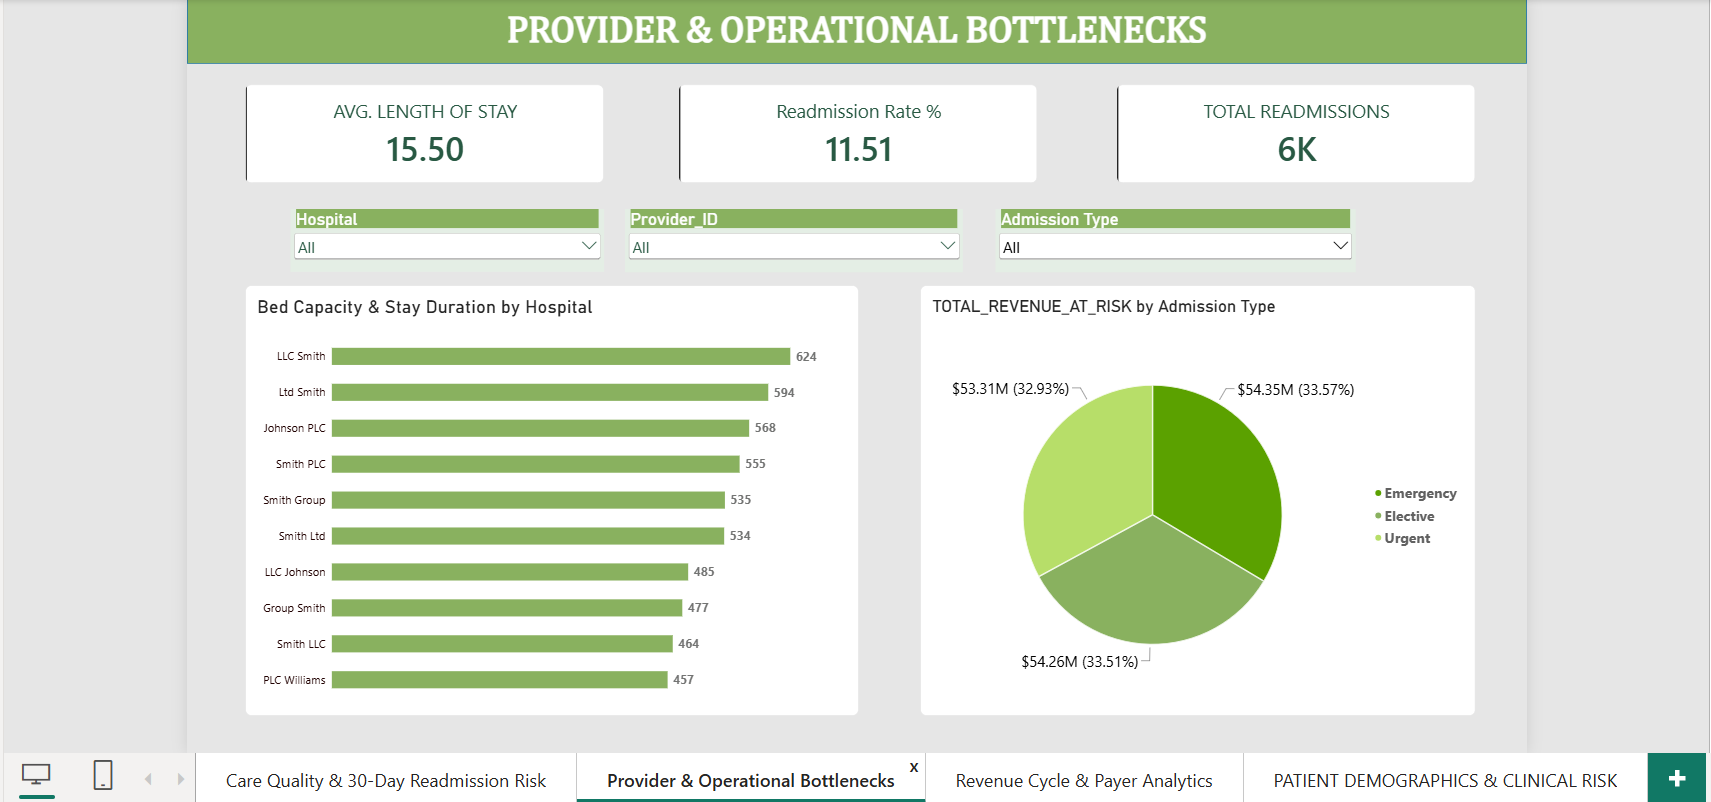

The page's visual inventory and layout, read from the dashboard file:
{"tool":"powerbi","page":{"name":"Provider & Operational Bottlenecks","canvas":[1920,1080],"ordinal":1},"visuals":[{"type":"shape","box":[0,0,1919.2,92.9],"z":0},{"type":"cardVisual","fields":{"Data":["Avg(VW_PILLAR2_OPERATIONS.AVG_LENGTH_OF_STAY_DAYS)"]},"box":[83.1,122.2,513.4,141.8],"z":1000},{"type":"cardVisual","fields":{"Data":["VW_PILLAR2_OPERATIONS.Overall Readmission Rate %"]},"box":[704.1,122.2,513.4,141.8],"z":2000},{"type":"cardVisual","fields":{"Data":["Sum(VW_PILLAR2_OPERATIONS.TOTAL_READMISSIONS)"]},"box":[1332.4,122.2,513.4,141.8],"z":3000},{"type":"clusteredBarChart","title":"Bed Capacity & Stay Duration by Hospital","fields":{"Category":["VW_PILLAR2_OPERATIONS.Hospital"],"Y":["Sum(VW_PILLAR2_OPERATIONS.AVG_LENGTH_OF_STAY_DAYS)"]},"box":[83.1,410.7,877.7,616.1],"z":4000},{"type":"slicer","fields":{"Values":["VW_PILLAR2_OPERATIONS.Hospital"]},"box":[148.3,300.8,449.1,90.2],"z":5000},{"type":"slicer","fields":{"Values":["VW_PILLAR2_OPERATIONS.Provider_ID"]},"box":[628.3,300.7,484.1,90.5],"z":6000},{"type":"slicer","fields":{"Values":["VW_PILLAR2_OPERATIONS.Admission Type"]},"box":[1158.1,300.8,515.9,90.5],"z":7000},{"type":"pieChart","fields":{"Category":["VW_PILLAR2_OPERATIONS.Admission Type"],"Y":["Sum(VW_PILLAR2_OPERATIONS.TOTAL_REVENUE_AT_RISK)"]},"box":[1051.3,410.7,794.6,616.1],"z":8000}]}

Visuals, with their boxes on the page's 1920x1080 design canvas (x1, y1, x2, y2). These are canvas units, not pixel positions in the 1711x802 screenshot, which may show the page scaled, cropped or inside an application window:
shape: (0,0,1919,93)
cardVisual - Avg(VW_PILLAR2_OPERATIONS.AVG_LENGTH_OF_STAY_DAYS): (83,122,596,264)
cardVisual - VW_PILLAR2_OPERATIONS.Overall Readmission Rate %: (704,122,1218,264)
cardVisual - Sum(VW_PILLAR2_OPERATIONS.TOTAL_READMISSIONS): (1332,122,1846,264)
"Bed Capacity & Stay Duration by Hospital" clusteredBarChart: (83,411,961,1027)
slicer - VW_PILLAR2_OPERATIONS.Hospital: (148,301,597,391)
slicer - VW_PILLAR2_OPERATIONS.Provider_ID: (628,301,1112,391)
slicer - VW_PILLAR2_OPERATIONS.Admission Type: (1158,301,1674,391)
pieChart - VW_PILLAR2_OPERATIONS.Admission Type x Sum(VW_PILLAR2_OPERATIONS.TOTAL_REVENUE_AT_RISK): (1051,411,1846,1027)
